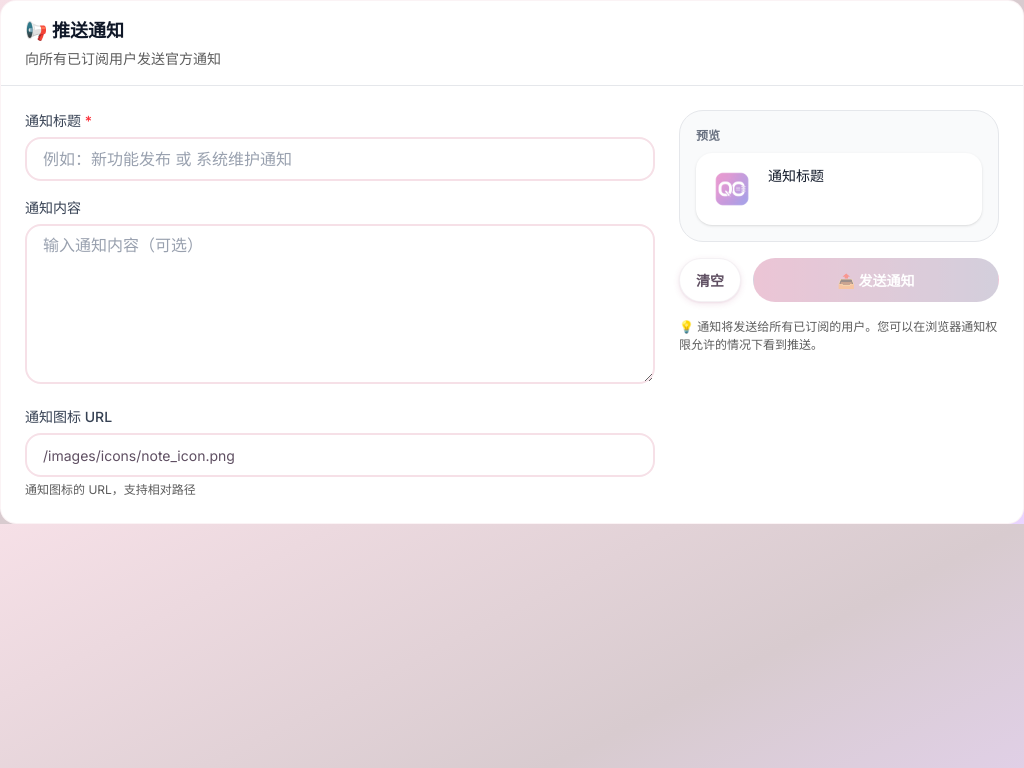
PushNotificationManager › warns and keeps the form when nobody is subscribed
In the field with placeholder "例如：新功能发布 或 系统维护通知": (340, 159) [25,137,655,181], type "维护通知"
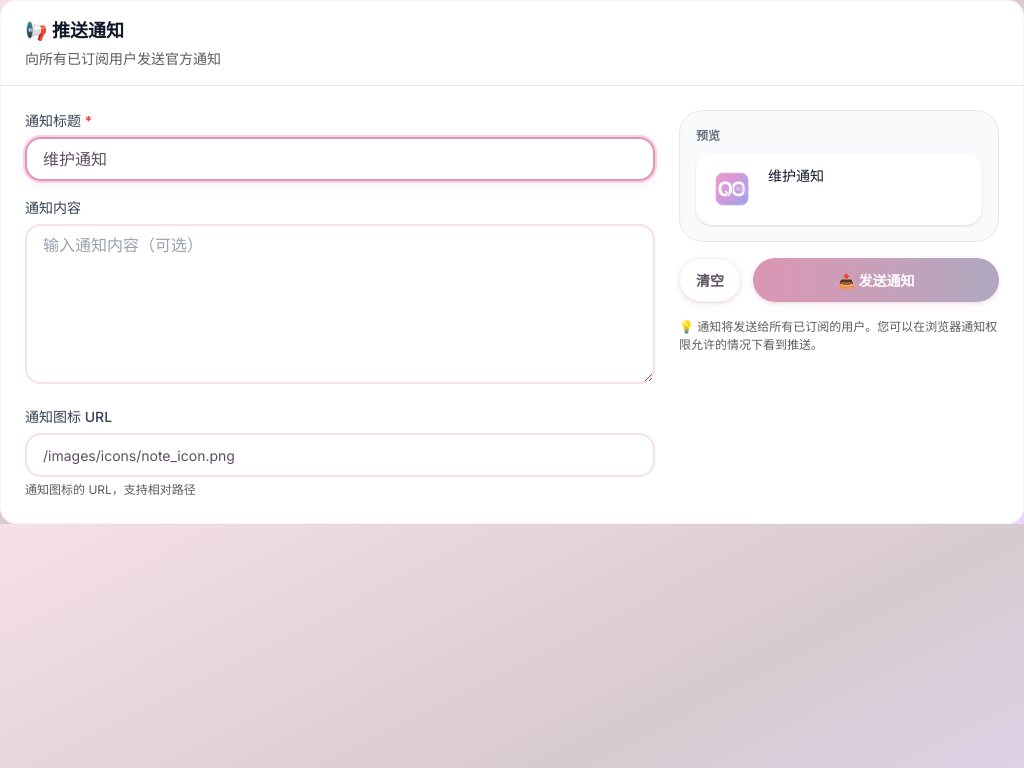
Click the button "📤 发送通知": click(876, 280) [753,258,999,302]
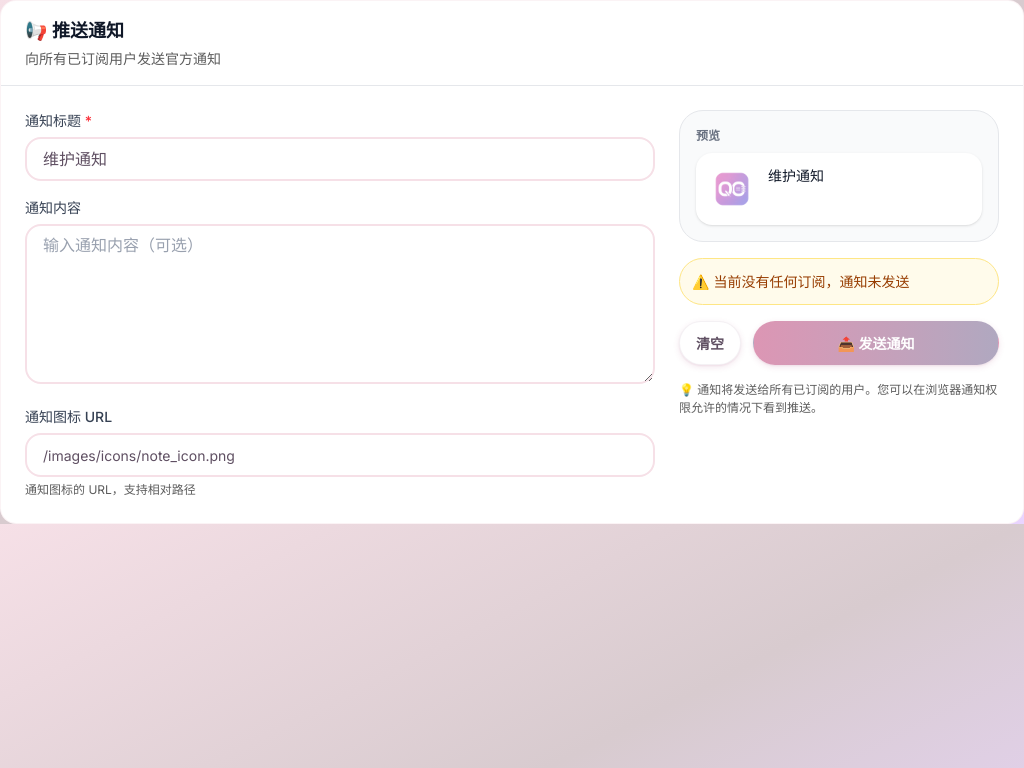
Expected: the text "⚠️ 当前没有任何订阅，通知未发送" is shown, [679,258,999,305]
